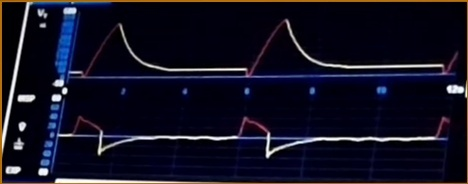Flow: (61, 106, 448, 168)
Leakage Volume: (73, 19, 459, 83)
